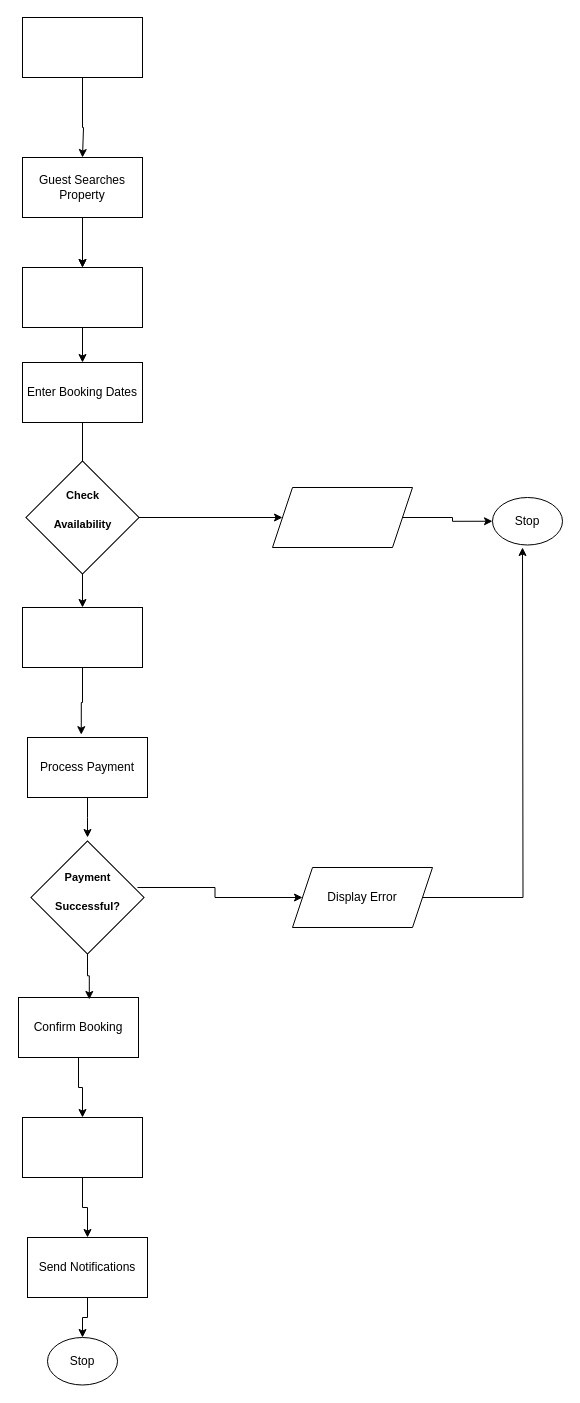
This 580x1403 diagram has some shape labels left out. Each missing label, with the box of its shape:
Display Unavailable: (272, 486, 412, 548)
Enter Payment Details: (22, 606, 142, 668)
Select Property: (22, 266, 142, 328)
Start: (22, 16, 142, 78)
Store Booking: (22, 1116, 142, 1178)
